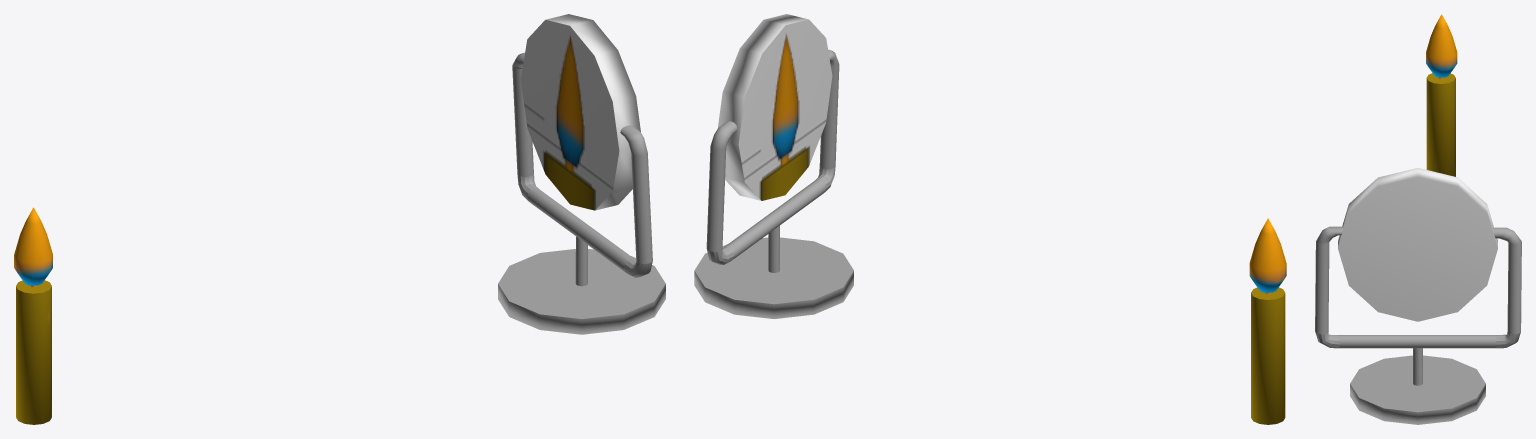
Rendered from fifth.fbx.
3 renders of one model, left to right at view 1: azimuth 30°, elevation 25°; view 2: azimuth 150°, elevation 25°; view 3: azimuth 270°, elevation 25°, orthographic. The views are drawn at different scales.
Visible parts, largest first — view 1: pCylinder34, pCylinder35; view 2: pCylinder34, pCylinder35; view 3: pCylinder34, pCylinder35.
Boxes of the visible parts, <box> form: pCylinder34: <box>498,14,665,334</box>; pCylinder35: <box>14,207,52,424</box>; pCylinder34: <box>694,14,853,318</box>; pCylinder35: <box>1249,218,1286,424</box>; pCylinder34: <box>1315,168,1521,424</box>; pCylinder35: <box>1426,14,1457,176</box>.
Bounding box in the file's own units: 52.21 × 22.13 × 18.55.
Materials: 3 (2 with a texture image).
